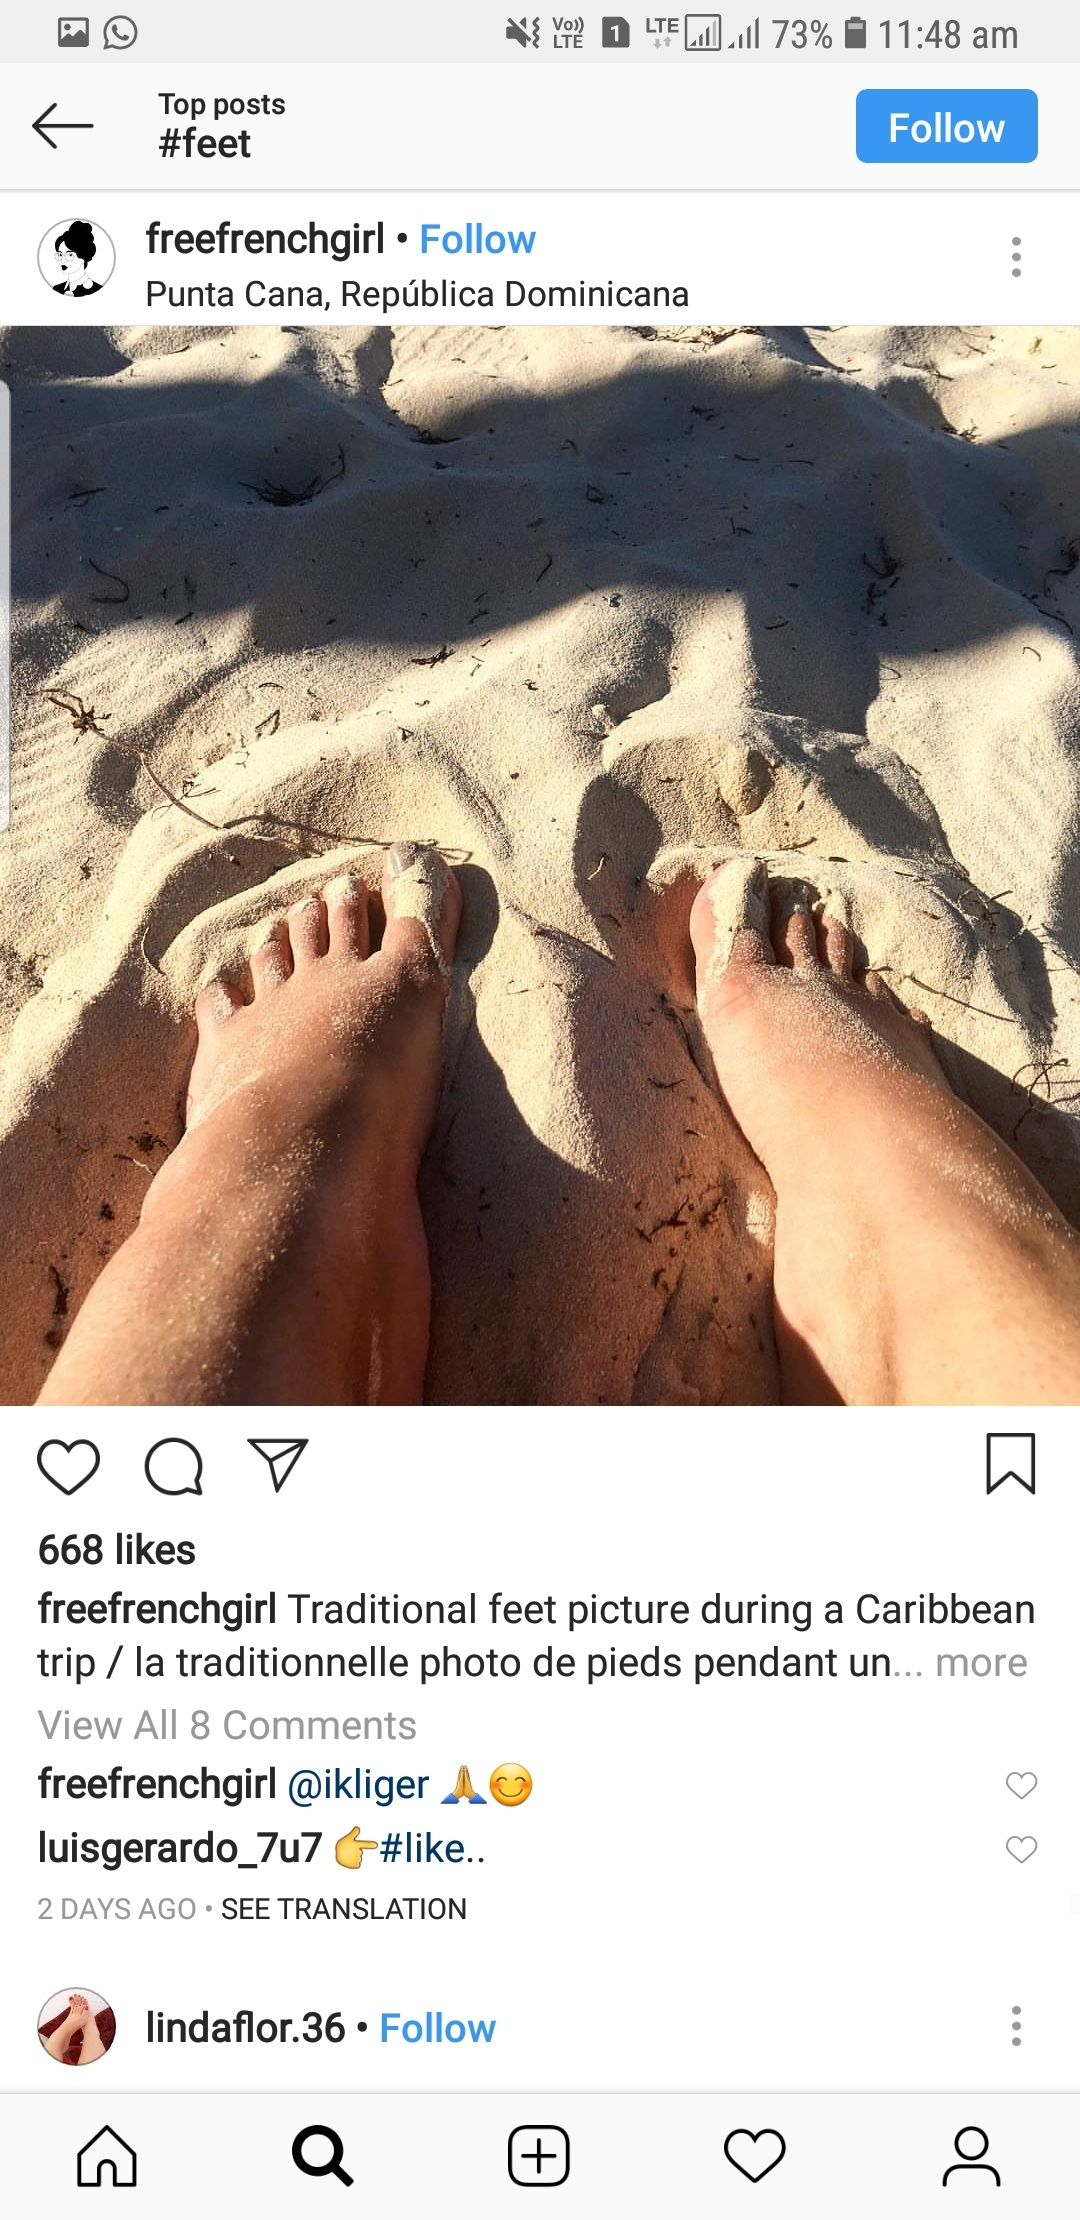feet: (23, 698, 767, 1395), (636, 806, 1056, 1407)
